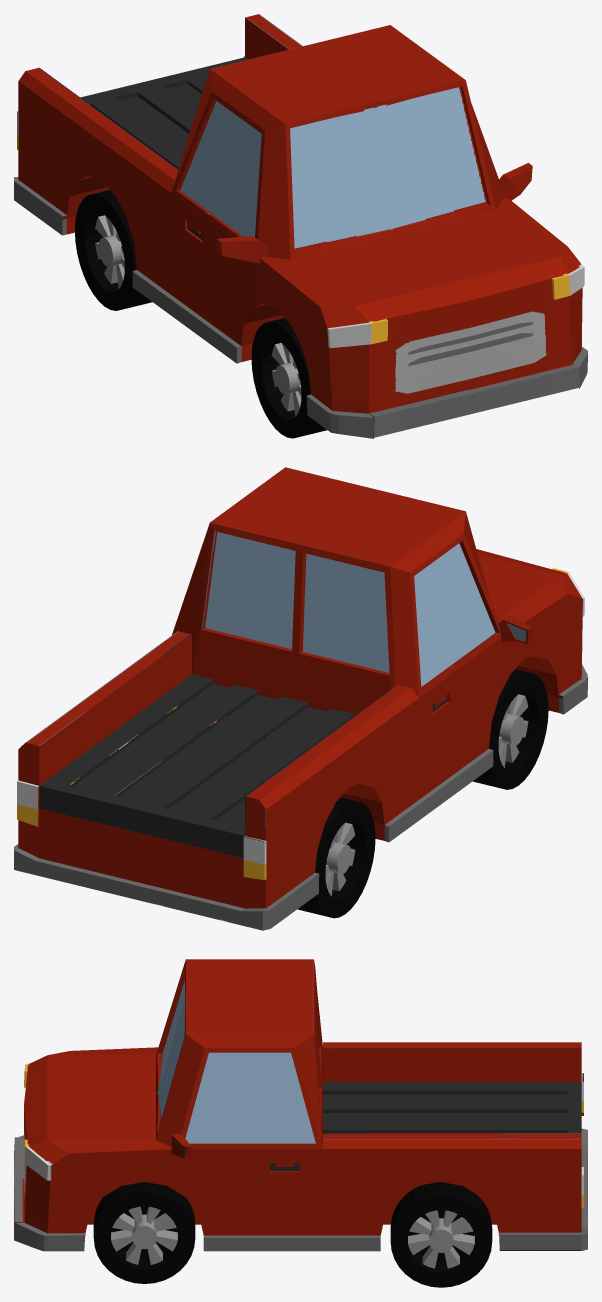
The model's file is pickupTruckFBX.fbx.
The picture shows the model from 3 angles, top to bottom: view 1: azimuth 30°, elevation 25°; view 2: azimuth 150°, elevation 25°; view 3: azimuth 270°, elevation 25°; orthographic projection. The views are drawn at different scales.
Visible parts, largest first — view 1: Body, WheelB.R, WheelF.R; view 2: Body, WheelB.R, WheelF.R; view 3: Body, WheelB.L, WheelF.L.
Boxes of the visible parts, x1,y1,x2,y2 form: Body: [14, 14, 587, 438]; WheelB.R: [75, 190, 152, 310]; WheelF.R: [251, 318, 327, 438]; Body: [14, 467, 587, 930]; WheelB.R: [297, 797, 375, 918]; WheelF.R: [472, 669, 548, 789]; Body: [14, 959, 587, 1251]; WheelB.L: [390, 1182, 492, 1287]; WheelF.L: [93, 1182, 195, 1283].
Bounding box in the file's own units: 252 × 220 × 473.
Materials: 2 (2 with a texture image).
